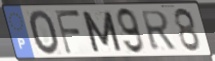8: (173, 7, 201, 54)
9: (115, 7, 146, 56)
F: (53, 9, 84, 57)
M: (79, 10, 124, 54)
O: (28, 9, 61, 57)
R: (139, 9, 178, 52)
